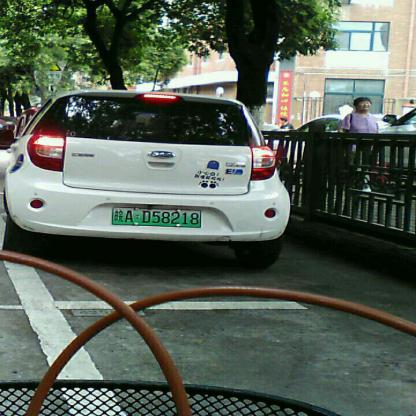lp: (112, 206, 202, 226)
